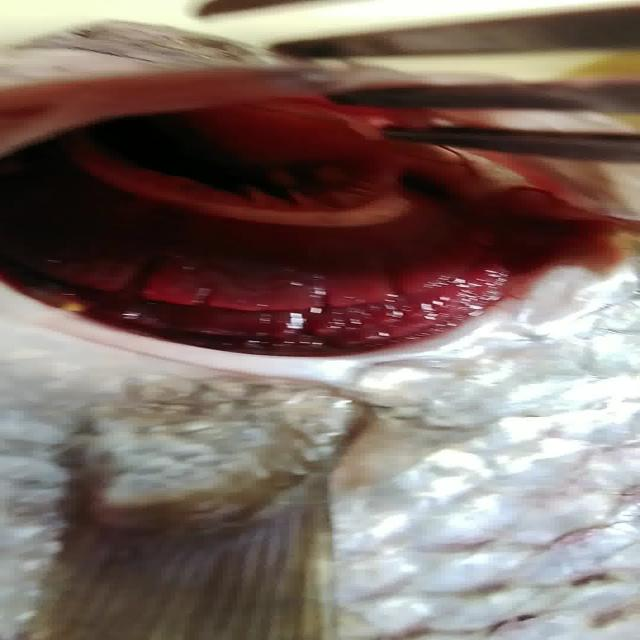Fresh: (10, 92, 630, 384)
